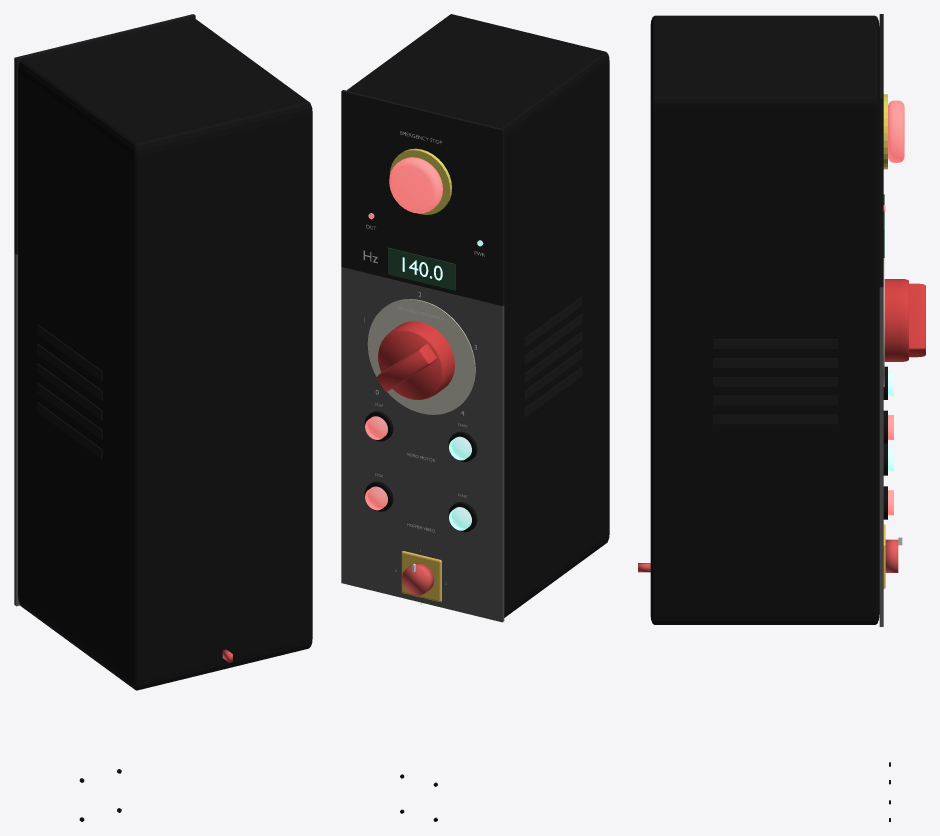
The model's file is Vibro Controller.fbx.
3 renders of one model, left to right at view 1: azimuth 30°, elevation 25°; view 2: azimuth 150°, elevation 25°; view 3: azimuth 270°, elevation 25°, orthographic. The views are drawn at different scales.
Visible parts, largest first — view 1: Housing, Ventilation_Details.001, Front_Control_Panel_Upper, Front_Control_Panel_Lower; view 2: Housing, Front_Control_Panel_Lower, Front_Control_Panel_Upper, Frequency_Scale, Main_Vibration_Frequency_Knob, Ventilation_Details.001, Emergency_Stop_Button.001, Digital_Display, Emergency_Stop_Base, Selector_Base, Vibration_Level_Selector_Knob; view 3: Housing, Ventilation_Details.001, Main_Vibration_Frequency_Knob, Front_Control_Panel_Lower, Front_Control_Panel_Upper, Emergency_Stop_Button.001, Vibration_Level_Selector_Knob.
Boxes of the visible parts, <box> form: Housing: <box>18,18,312,690</box>; Ventilation_Details.001: <box>37,324,102,459</box>; Front_Control_Panel_Upper: <box>14,14,195,254</box>; Front_Control_Panel_Lower: <box>14,253,19,606</box>; Housing: <box>347,14,609,617</box>; Front_Control_Panel_Lower: <box>341,267,504,622</box>; Front_Control_Panel_Upper: <box>341,90,504,305</box>; Frequency_Scale: <box>367,299,475,414</box>; Main_Vibration_Frequency_Knob: <box>376,321,454,399</box>; Ventilation_Details.001: <box>524,296,582,417</box>; Emergency_Stop_Button.001: <box>389,157,442,213</box>; Digital_Display: <box>388,247,455,290</box>; Emergency_Stop_Base: <box>389,148,451,214</box>; Selector_Base: <box>401,551,441,601</box>; Vibration_Level_Selector_Knob: <box>401,563,434,595</box>; Housing: <box>650,15,879,624</box>; Ventilation_Details.001: <box>713,339,837,424</box>; Main_Vibration_Frequency_Knob: <box>884,279,925,361</box>; Front_Control_Panel_Lower: <box>879,287,883,626</box>; Front_Control_Panel_Upper: <box>879,14,883,287</box>; Emergency_Stop_Button.001: <box>888,100,904,162</box>; Vibration_Level_Selector_Knob: <box>638,537,902,572</box>.
Bounding box in the file's own units: 9.7 × 40.1 × 13.83.
